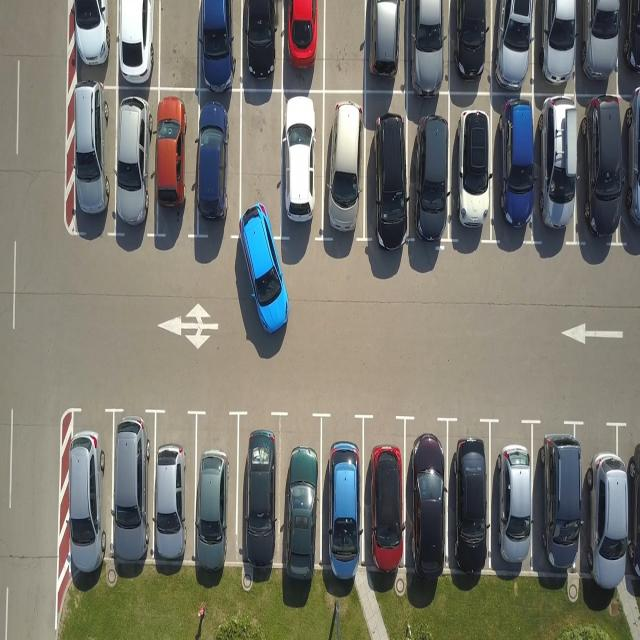space-empty: (240, 92, 285, 234), (323, 0, 371, 90), (159, 0, 204, 86)
space-occupied: (577, 430, 636, 608), (533, 421, 589, 589), (61, 407, 113, 586), (107, 406, 157, 576), (236, 410, 286, 571), (151, 408, 200, 572), (191, 409, 241, 569), (276, 412, 324, 578), (319, 90, 369, 248), (193, 87, 243, 243), (572, 103, 626, 245), (321, 414, 367, 580), (360, 414, 405, 582), (404, 416, 450, 578), (488, 419, 534, 580), (64, 85, 114, 233), (488, 102, 540, 243), (448, 417, 494, 575), (154, 90, 200, 247), (366, 93, 414, 243), (278, 90, 324, 246), (533, 101, 582, 243), (406, 95, 453, 243), (452, 106, 499, 246), (114, 87, 157, 237), (572, 0, 622, 93), (404, 2, 452, 95), (534, 2, 581, 96), (489, 2, 536, 95), (449, 0, 497, 91), (279, 0, 325, 91), (67, 0, 115, 84), (115, 0, 162, 85), (242, 0, 287, 88), (362, 0, 406, 89), (198, 0, 242, 88), (620, 100, 640, 242), (617, 0, 640, 92)
